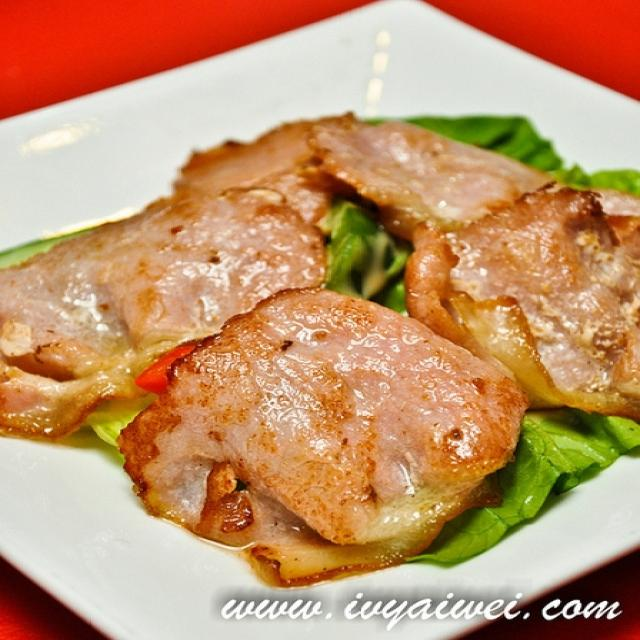牛肉菜式: (53, 128, 606, 541)
